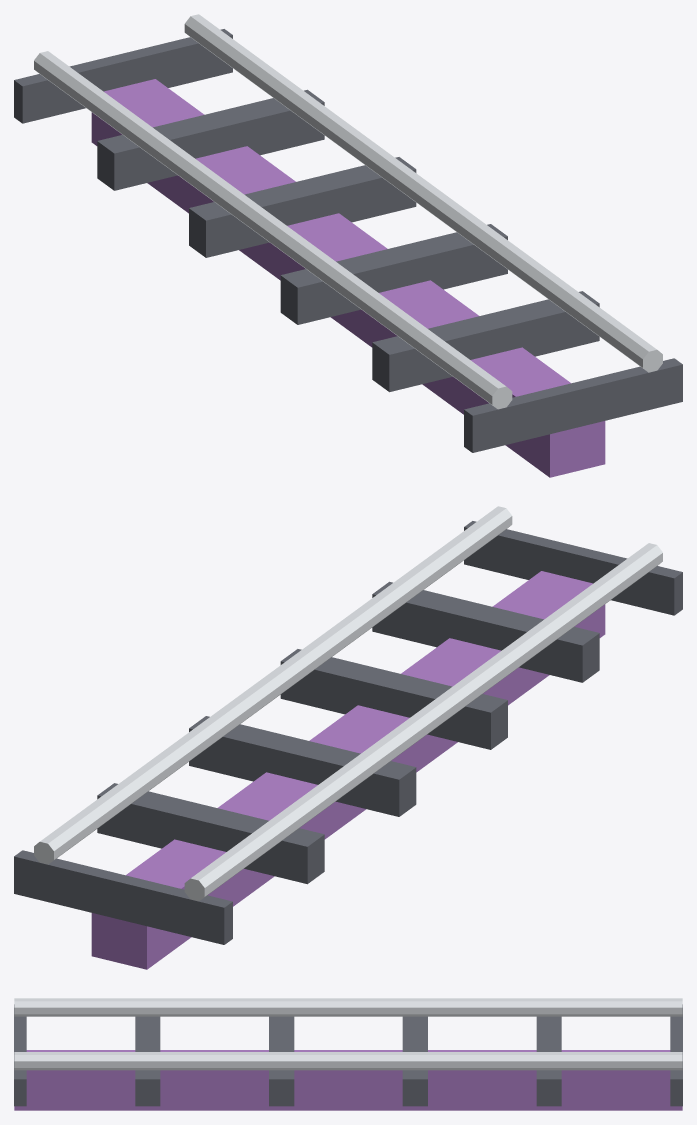
File: theme-park-rides-and-coasters-theme-park-rides-and-coa-ed2a4d01__28618.glb
3 renders of one model, top to bottom at view 1: azimuth 30°, elevation 25°; view 2: azimuth 150°, elevation 25°; view 3: azimuth 270°, elevation 25°, orthographic. The views are drawn at different scales.
Visible parts, largest first — view 1: theme-park-rides-and-coasters-track-straight-4m; view 2: theme-park-rides-and-coasters-track-straight-4m; view 3: theme-park-rides-and-coasters-track-straight-4m.
Part boxes in pixels (<box>): theme-park-rides-and-coasters-track-straight-4m: <box>14,14,682,477</box>; theme-park-rides-and-coasters-track-straight-4m: <box>14,506,682,969</box>; theme-park-rides-and-coasters-track-straight-4m: <box>14,998,682,1110</box>.
Size of the model in its own units: 1.06 by 0.4908 by 4.
